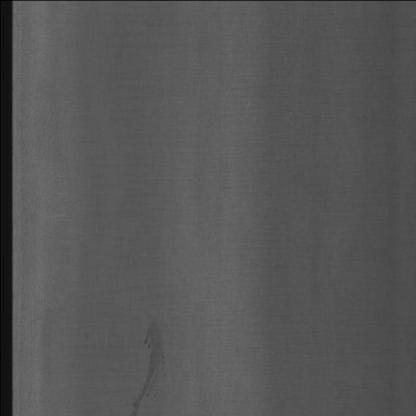water_spot: (128, 304, 169, 414)
